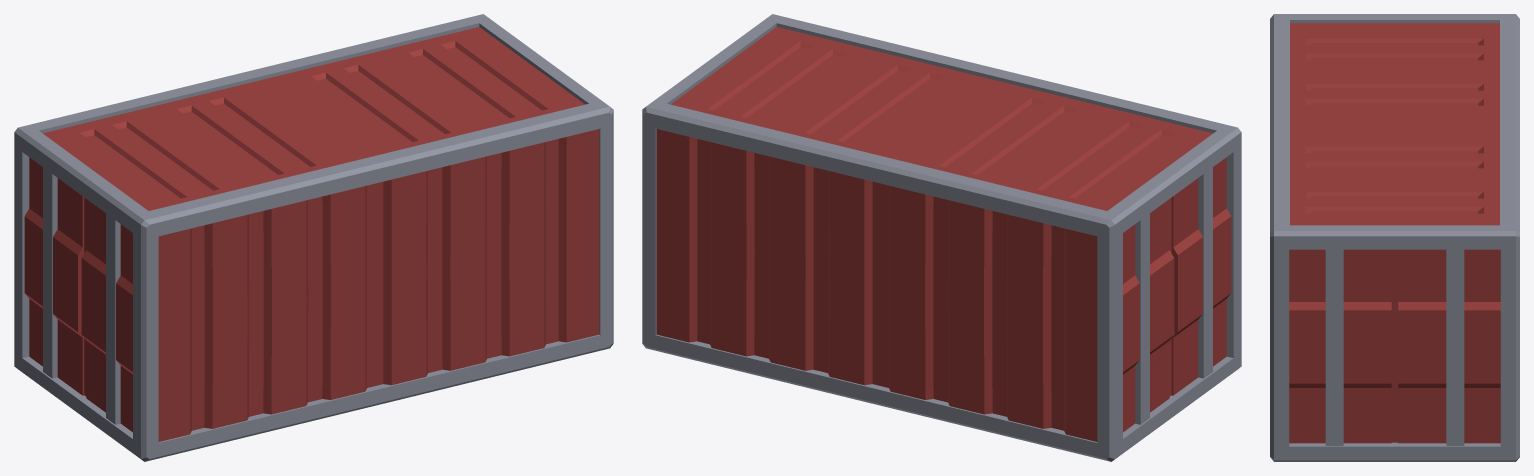
Rendered from quaternius-toon-shooter-game-container-long.glb.
3 views of the same model, side by side, from view 1: azimuth 30°, elevation 25°; view 2: azimuth 150°, elevation 25°; view 3: azimuth 270°, elevation 25° (orthographic). The views are drawn at different scales.
Visible parts, largest first — view 1: Container_Long; view 2: Container_Long; view 3: Container_Long.
Boxes of the visible parts, left/top/right/bottom form: Container_Long: left=14, top=14, right=613, bottom=461; Container_Long: left=642, top=14, right=1241, bottom=461; Container_Long: left=1270, top=14, right=1519, bottom=461.
Size of the model in its own units: 4.36 by 2.13 by 2.09.
